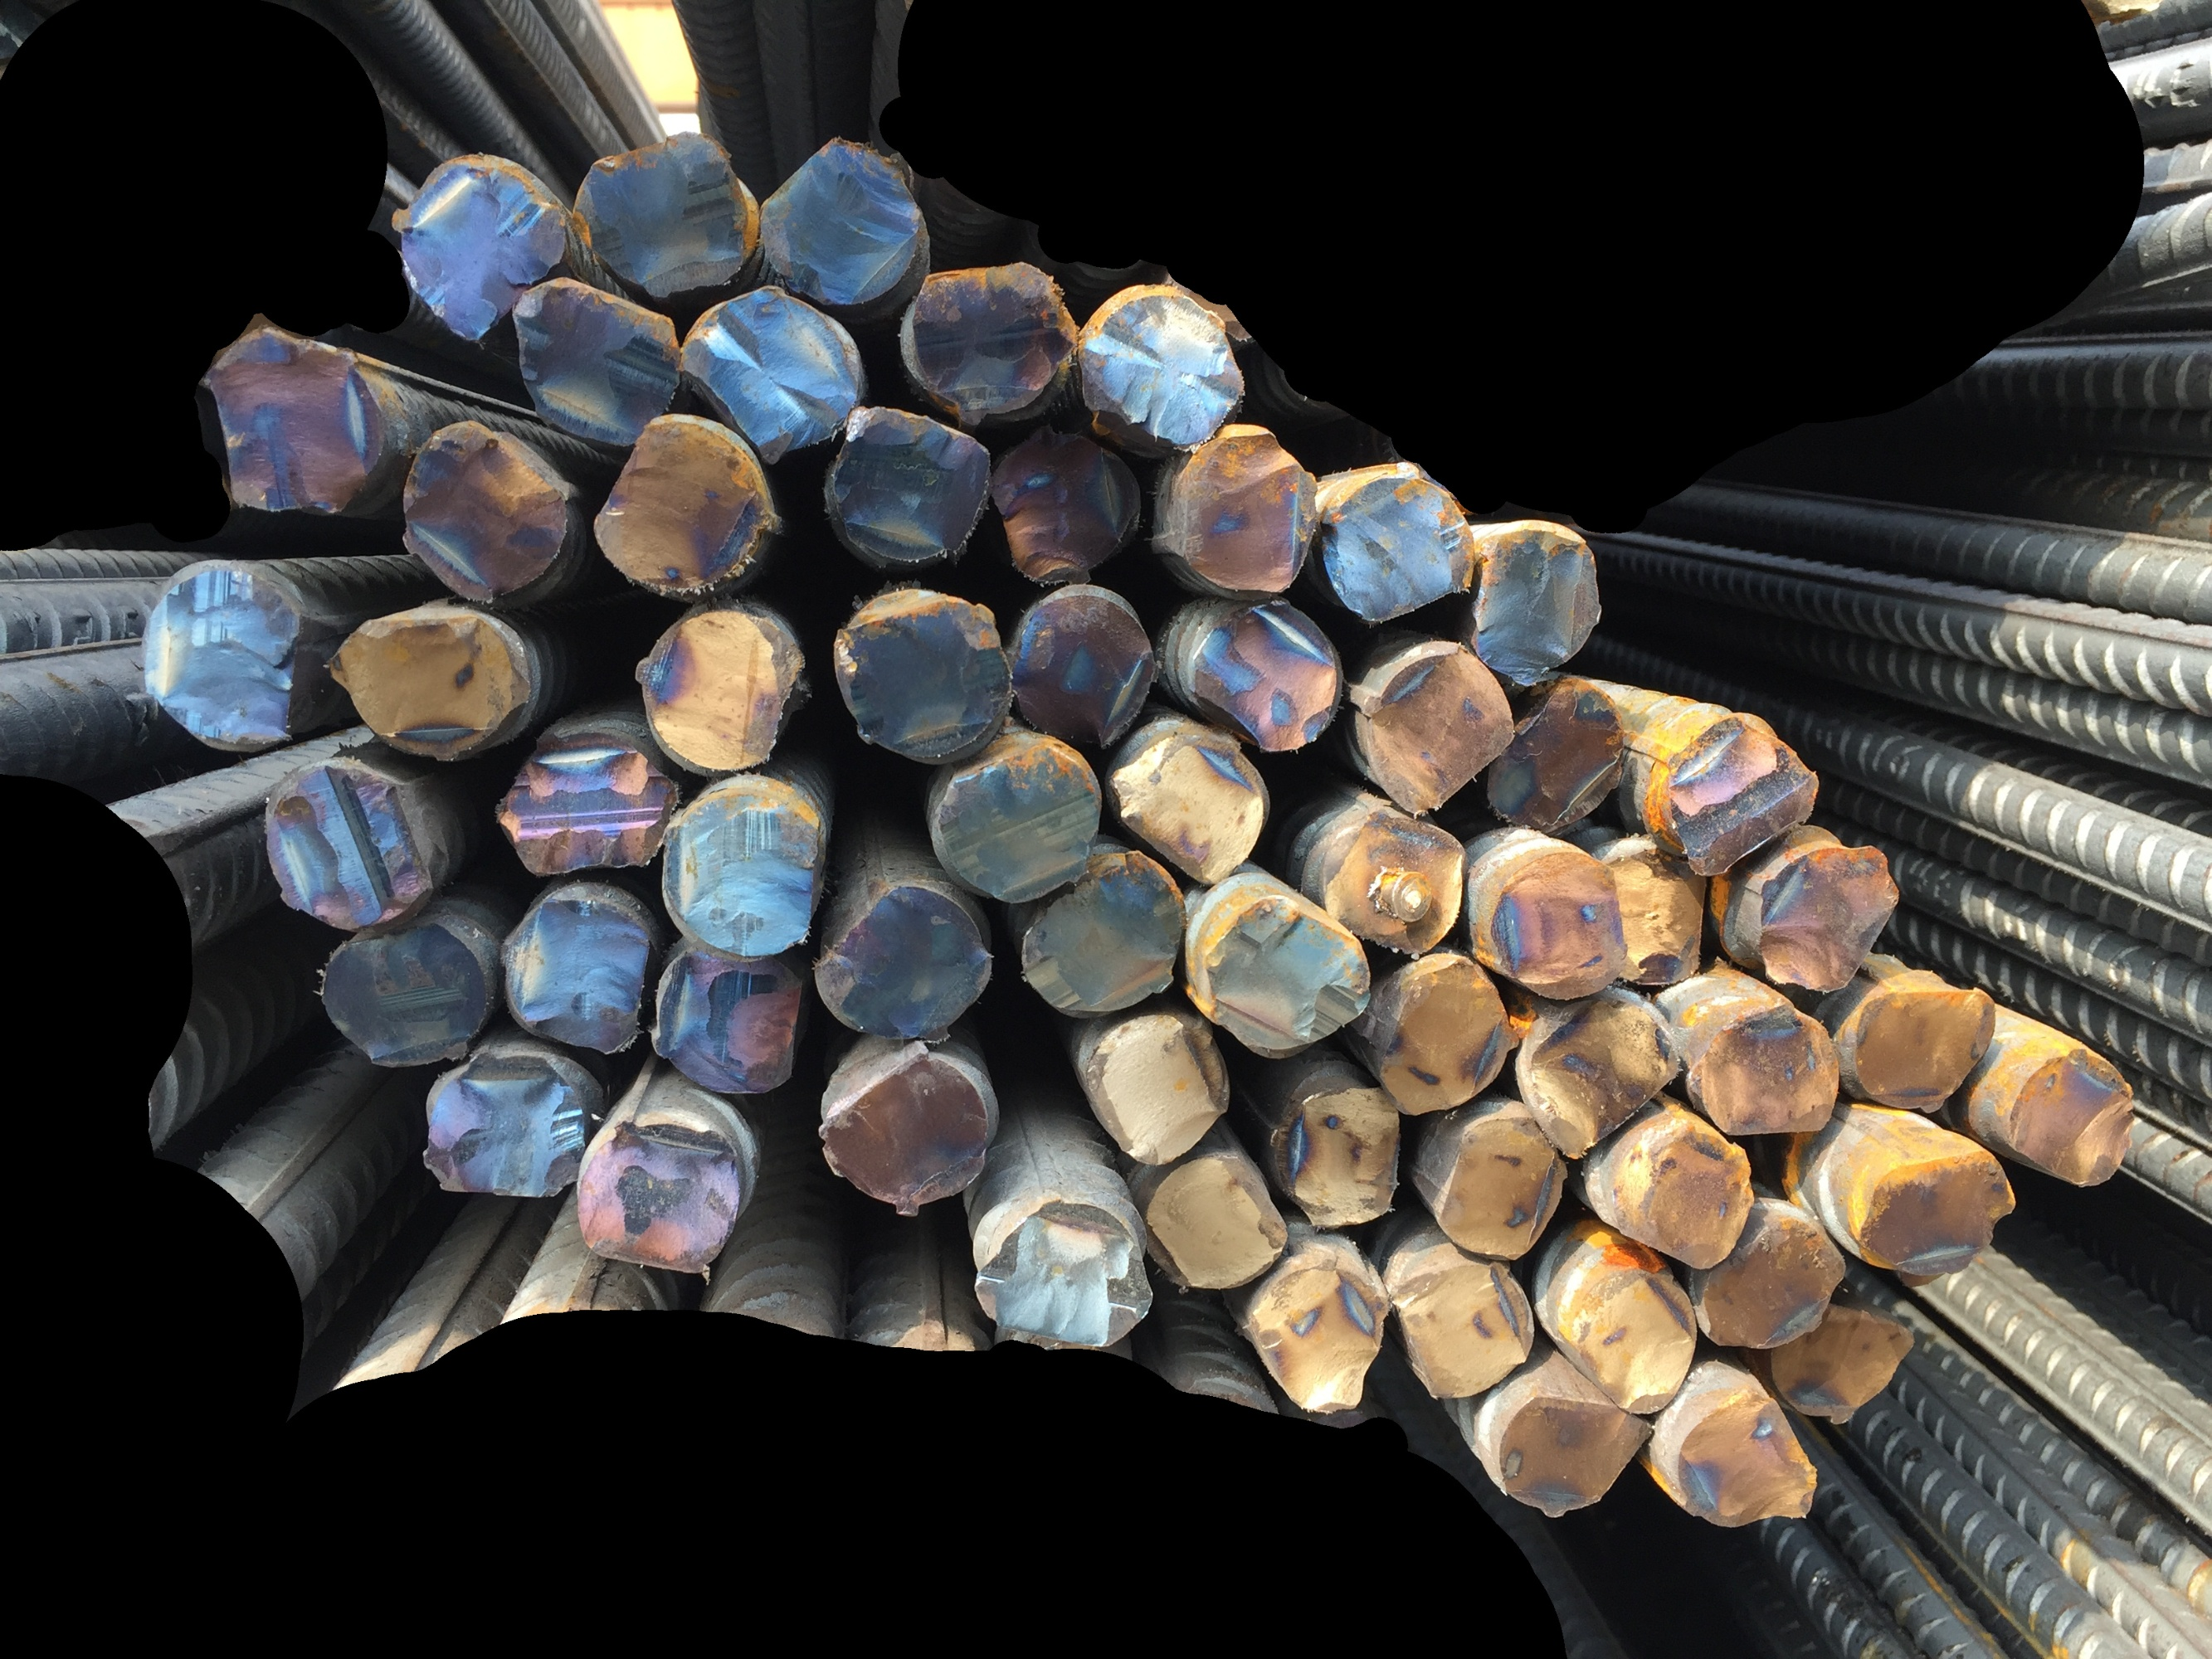rebar: (668, 275, 872, 471), (199, 322, 394, 521), (389, 153, 579, 345), (561, 122, 757, 305), (587, 415, 783, 598), (392, 415, 573, 606), (317, 606, 530, 767), (896, 258, 1089, 432), (753, 131, 936, 314), (824, 592, 1018, 763), (504, 274, 687, 453), (256, 760, 443, 934), (807, 877, 997, 1047), (134, 563, 305, 751), (811, 1047, 994, 1222), (819, 396, 1001, 570), (657, 782, 831, 964), (629, 603, 809, 777), (926, 737, 1107, 910), (1070, 288, 1255, 457), (1196, 892, 1381, 1058), (490, 725, 683, 882), (568, 1112, 743, 1284), (1014, 847, 1189, 1019), (967, 1194, 1161, 1349), (976, 418, 1152, 587), (1522, 988, 1689, 1164), (1360, 640, 1518, 823), (1166, 423, 1327, 603), (312, 918, 497, 1070), (1659, 714, 1827, 882), (415, 1047, 593, 1204), (1382, 1232, 1543, 1405), (1103, 727, 1271, 889), (1313, 469, 1482, 629), (1680, 1195, 1851, 1354), (495, 890, 657, 1056), (1476, 669, 1633, 840), (645, 936, 809, 1098), (1374, 951, 1529, 1122), (1077, 1006, 1238, 1169), (1002, 587, 1159, 755), (1745, 838, 1905, 999), (1185, 598, 1344, 758), (1687, 992, 1851, 1147), (1851, 1140, 2025, 1281), (1245, 1258, 1400, 1415), (1466, 523, 1607, 692), (1485, 847, 1637, 1004), (1670, 1380, 1825, 1532), (1314, 810, 1471, 960), (1429, 1108, 1578, 1265), (1489, 1389, 1663, 1521), (1560, 1260, 1705, 1419), (1998, 1040, 2144, 1194), (1140, 1150, 1295, 1295), (1848, 981, 2005, 1119), (1281, 1079, 1410, 1234), (1591, 838, 1720, 993), (1762, 1304, 1921, 1429), (1632, 1127, 1762, 1276)
